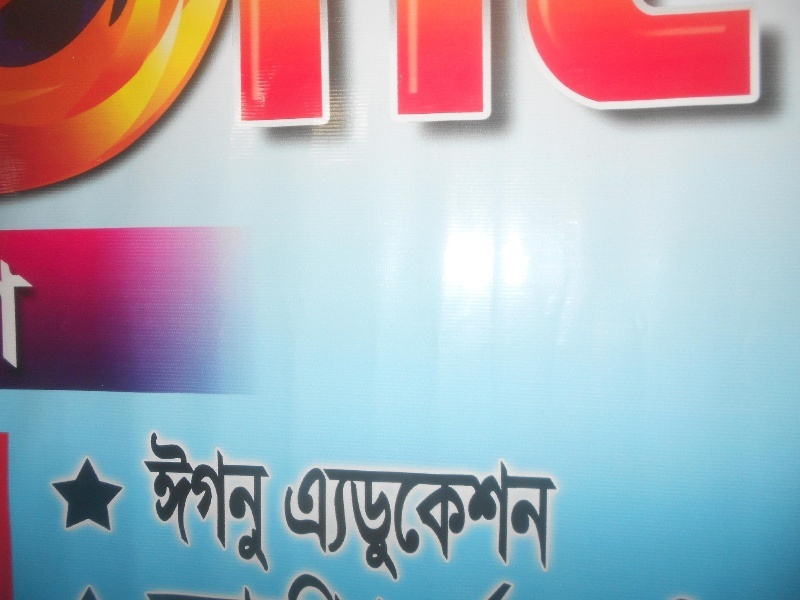text: (145, 428, 160, 574), (161, 428, 176, 574), (177, 428, 192, 574), (193, 428, 208, 574), (209, 428, 224, 574), (225, 428, 240, 574), (241, 428, 256, 574), (257, 428, 272, 574), (289, 455, 304, 585), (305, 455, 320, 585), (321, 455, 336, 585), (337, 455, 352, 585), (353, 455, 368, 585), (369, 455, 384, 585), (385, 455, 400, 585), (401, 455, 416, 585), (417, 455, 432, 585), (433, 455, 448, 585), (449, 455, 464, 585), (465, 455, 480, 585), (481, 455, 496, 585), (497, 455, 512, 585), (513, 455, 528, 585), (529, 455, 544, 585), (241, 1, 256, 127), (257, 1, 272, 127), (273, 1, 288, 127), (289, 1, 304, 127), (305, 1, 320, 127), (321, 1, 336, 127), (337, 1, 352, 127), (353, 1, 368, 127), (369, 1, 384, 127), (385, 1, 400, 127), (401, 1, 416, 127), (417, 1, 432, 127), (433, 1, 448, 127), (449, 1, 464, 127), (465, 1, 480, 127), (481, 1, 496, 127), (497, 1, 512, 127), (513, 1, 528, 127), (529, 1, 544, 127), (545, 1, 560, 127), (561, 1, 576, 127), (577, 1, 592, 127), (593, 1, 608, 127), (609, 1, 624, 127), (625, 1, 640, 127), (641, 1, 656, 127), (657, 1, 672, 127), (673, 1, 688, 127), (689, 1, 704, 127), (705, 1, 720, 127), (721, 1, 736, 127), (737, 1, 752, 127), (545, 455, 559, 585), (17, 263, 33, 370), (3, 263, 16, 370), (753, 1, 761, 127), (141, 428, 144, 574), (65, 572, 80, 600), (81, 572, 96, 600), (97, 572, 112, 600), (113, 572, 128, 600), (129, 572, 144, 600), (145, 572, 160, 600), (161, 572, 176, 600), (177, 572, 192, 600), (193, 572, 208, 600), (209, 572, 224, 600), (225, 572, 240, 600), (241, 572, 256, 600), (257, 572, 272, 600), (273, 572, 288, 600), (289, 572, 304, 600), (305, 572, 320, 600), (321, 572, 336, 600), (285, 455, 288, 585), (465, 576, 480, 600), (481, 576, 496, 600), (497, 576, 512, 600), (52, 572, 64, 600), (337, 572, 347, 600), (238, 1, 240, 127), (513, 576, 522, 600), (273, 428, 274, 574)
